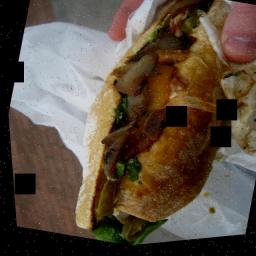hotdog: (49, 0, 256, 252)
